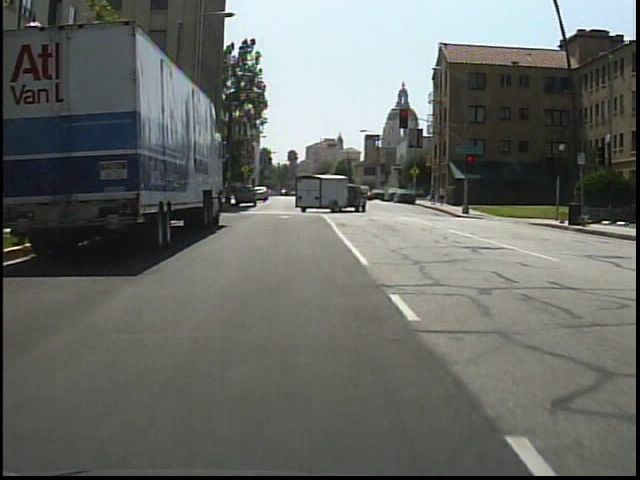person: (437, 184, 449, 210), (428, 185, 439, 209)
